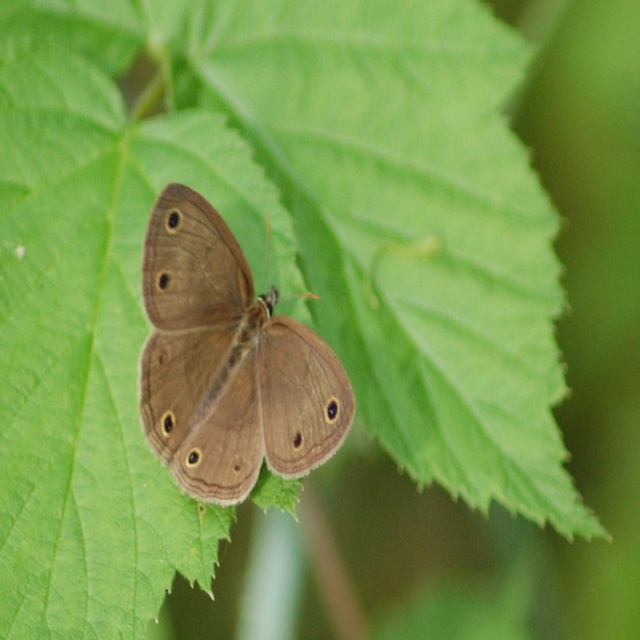Butterfly: (119, 174, 365, 514)
